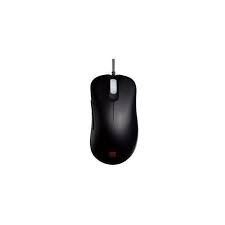mouse: (85, 55, 141, 169)
